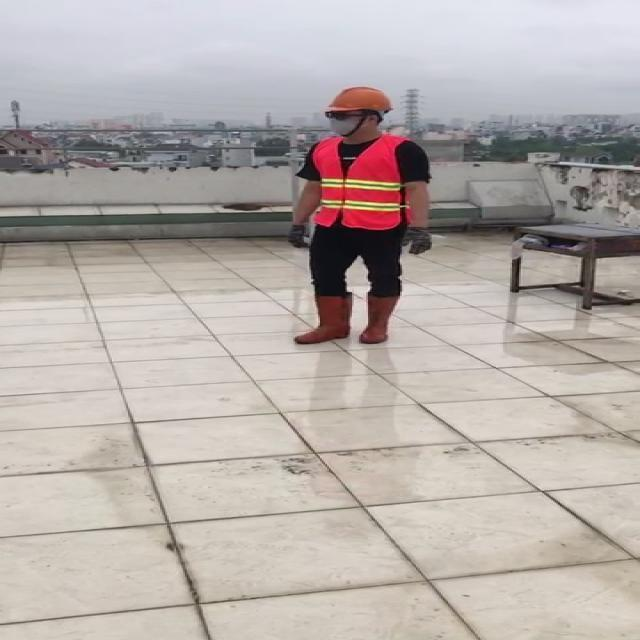gloves: (403, 228, 432, 255), (288, 224, 308, 248)
hard-hat: (323, 86, 393, 117)
person: (288, 86, 432, 345)
vest: (293, 131, 407, 225)
